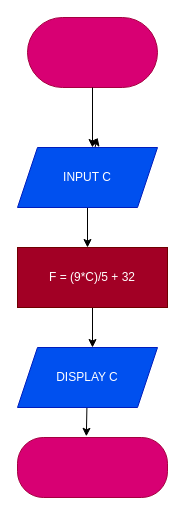
The diagram is 185 pixels wide and 515 high, and some of its shapes have lost their labels. The centre of each missing label's shape, as x and y in pixels:
END: [92,467]
START: [92,52]
